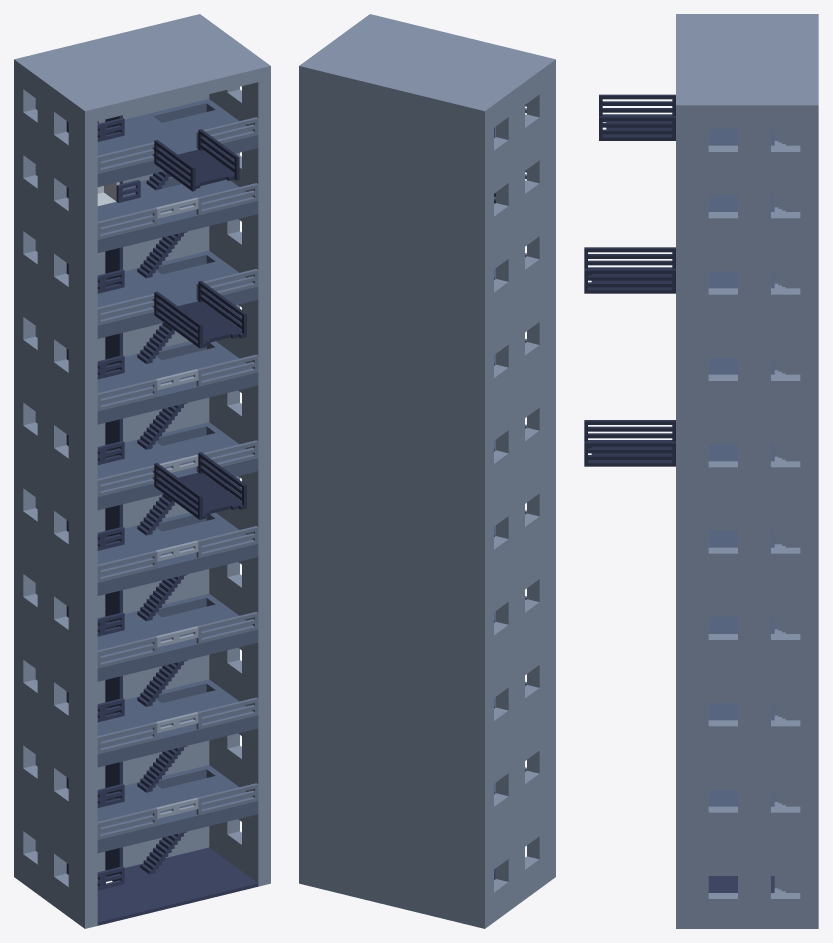
The model's file is launcher.obj.
The picture shows the model from 3 angles, left to right: view 1: azimuth 30°, elevation 25°; view 2: azimuth 150°, elevation 25°; view 3: azimuth 270°, elevation 25°; orthographic projection.
Size of the model in its own units: 5.9 by 24.8 by 6.4.
Materials: 1 (1 with a texture image).
